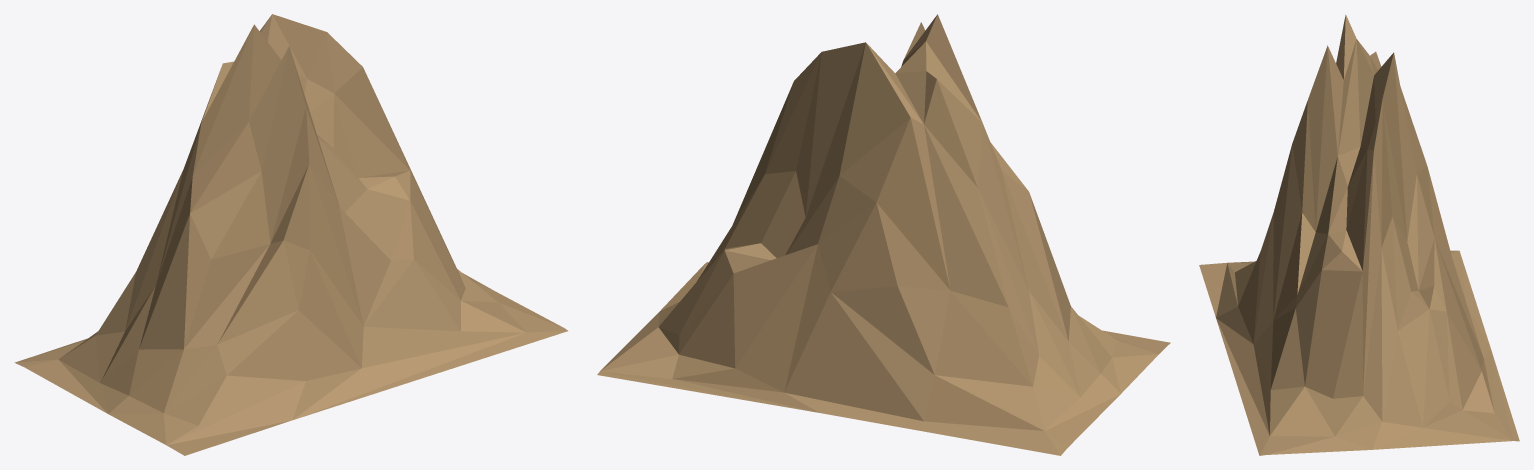
File: mountain-med.gltf
3 renders of one model, left to right at view 1: azimuth 30°, elevation 25°; view 2: azimuth 150°, elevation 25°; view 3: azimuth 270°, elevation 25°, orthographic. The views are drawn at different scales.
Parts seen in each view (by area): view 1: mountain-med; view 2: mountain-med; view 3: mountain-med.
Boxes of the visible parts, x1,y1,x2,y2 form: mountain-med: (14, 14, 567, 455); mountain-med: (597, 14, 1170, 455); mountain-med: (1199, 14, 1519, 455).
Bounding box in the file's own units: 4.84 × 3.5 × 3.19.
